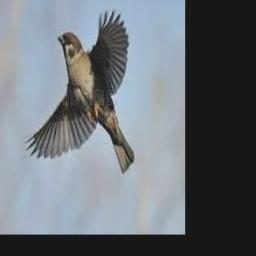Sparrow: (24, 8, 134, 174)
